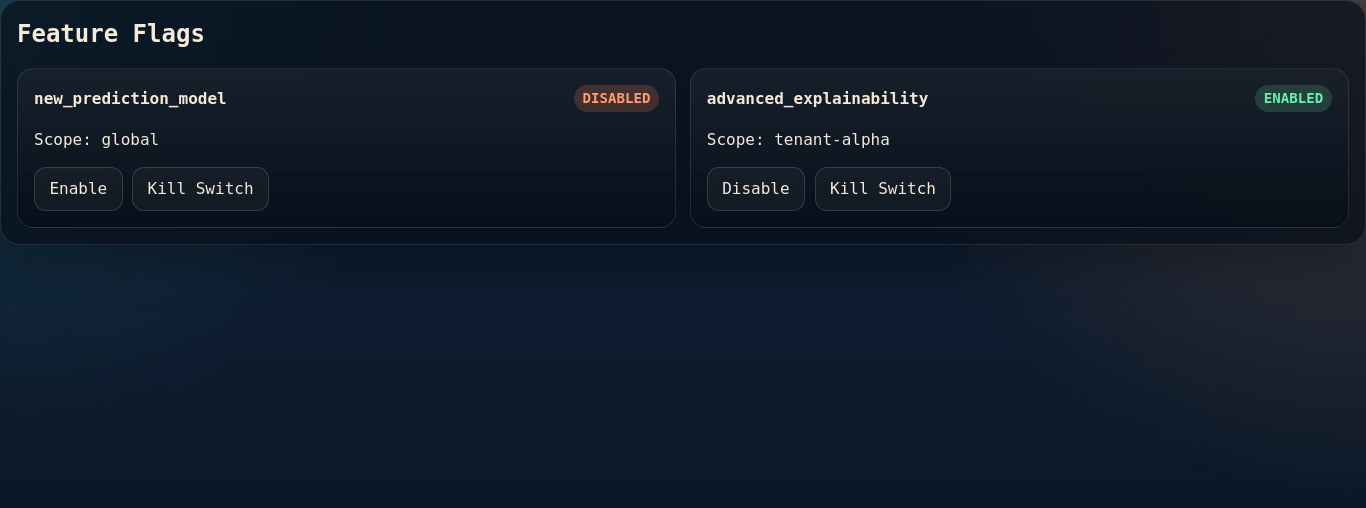
FeatureFlagManager › can toggle a flag
The image size is (1366, 508).
What coordinates should you click on to do the following:
click the button "Enable"
I would click on:
 (78, 189)
Its box is top-left (34, 167), bottom-right (123, 211).
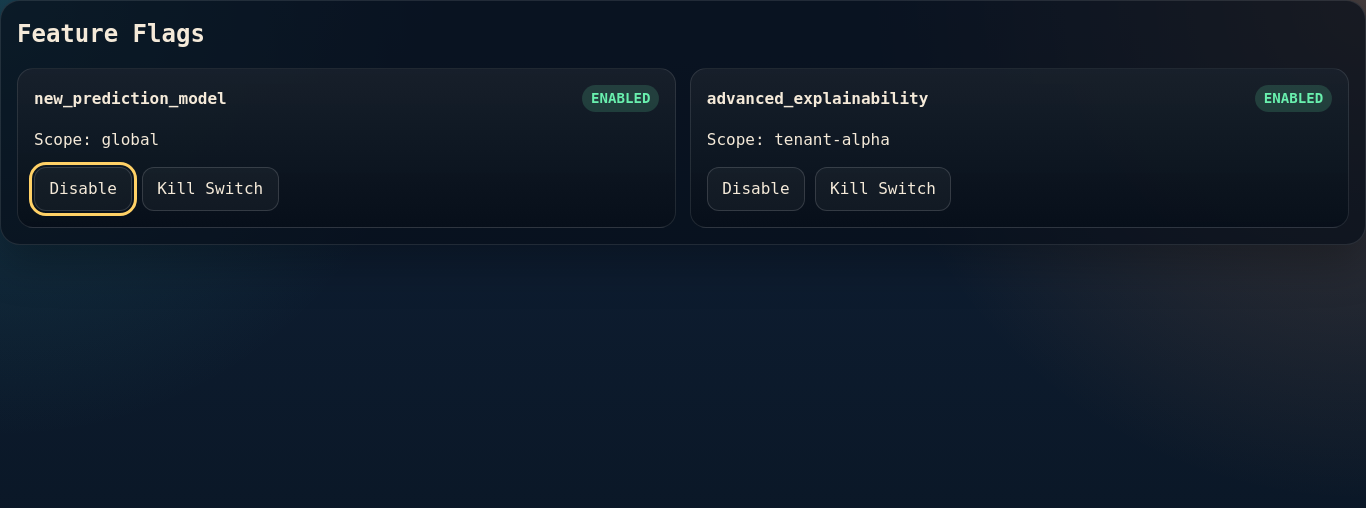
Expected: the button "Disable" below "global" is shown, top-left (34, 167), bottom-right (132, 211)
